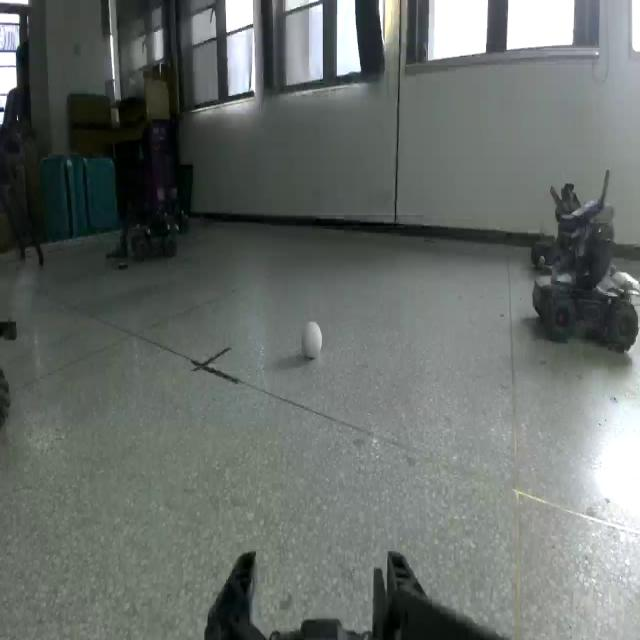ball1: (302, 319, 324, 361)
s1: (531, 194, 639, 356)
